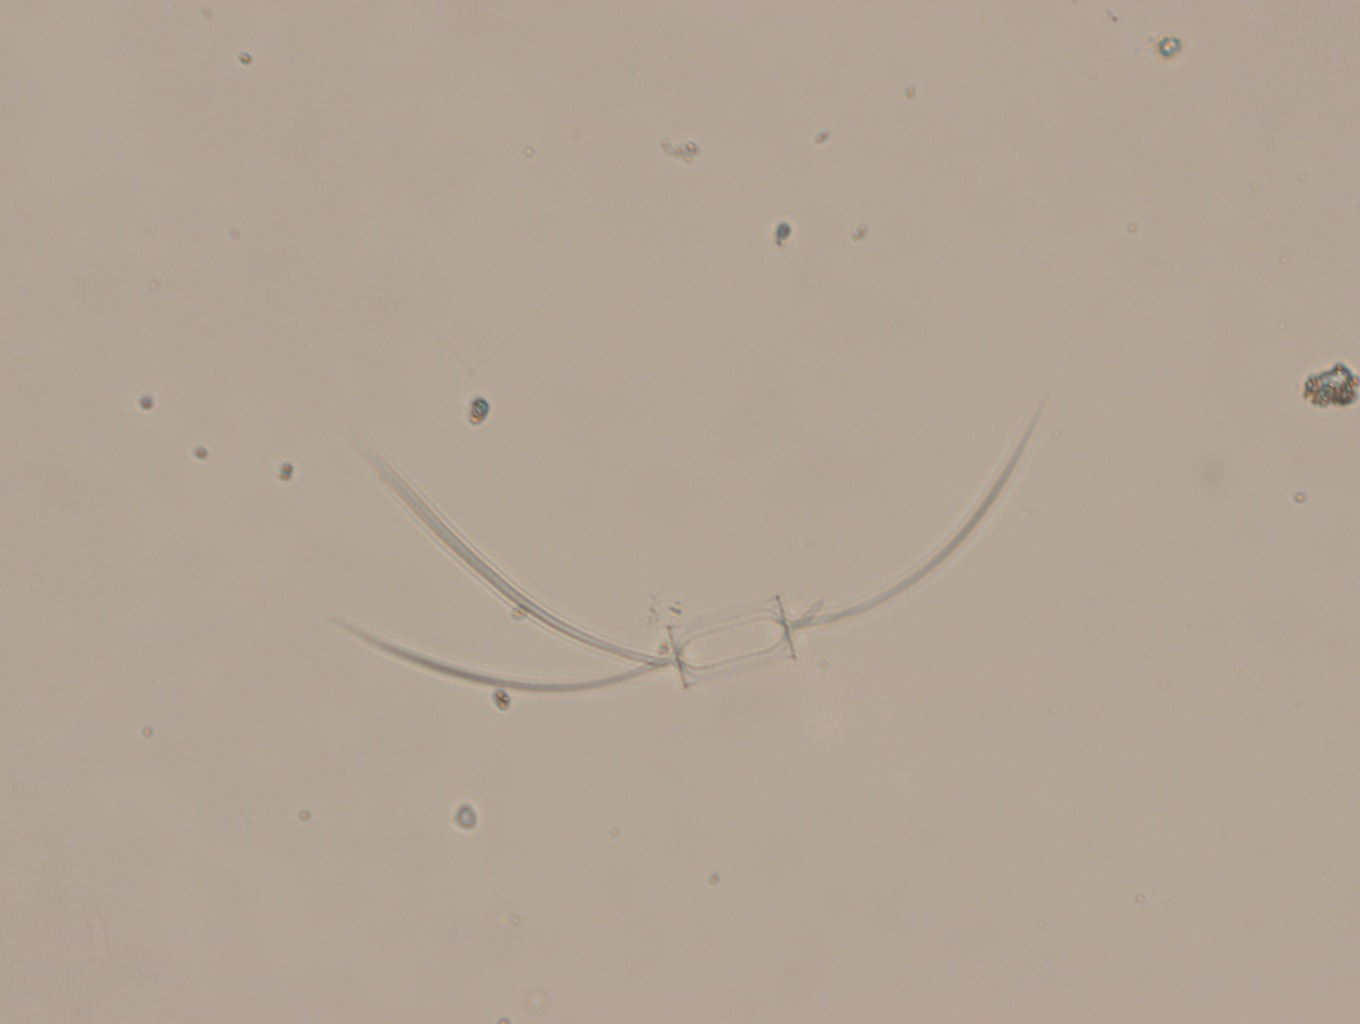chaetoceros: (302, 412, 1106, 705)
